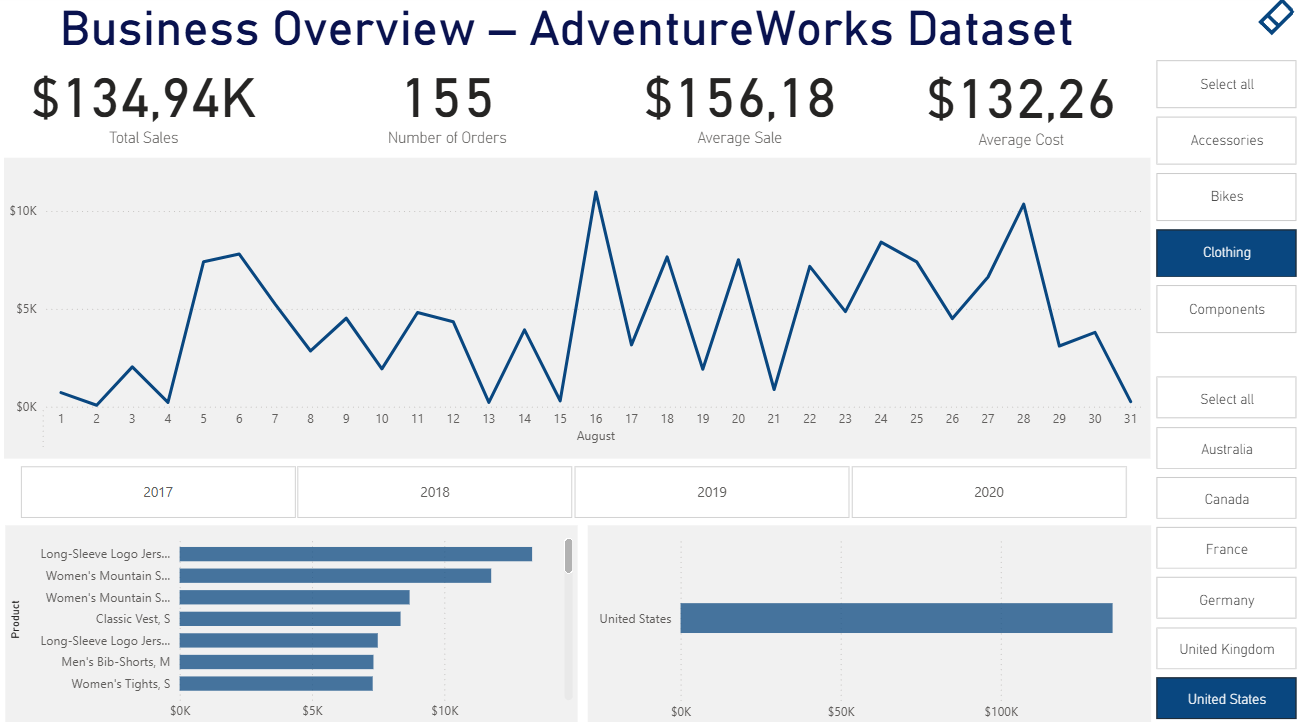

This screenshot's page, from the dashboard's own definition file:
{"tool":"powerbi","page":{"name":"Overview","canvas":[1280,720],"ordinal":0},"visuals":[{"type":"cardVisual","title":"SALES","fields":{"Data":["Sum(Sales.Sales)"]},"box":[6.1,50.1,281.3,119.8],"z":0},{"type":"cardVisual","fields":{"Data":["Count(Sales.SalesOrderNumber)"]},"box":[321.6,50.1,244.6,119.8],"z":1000},{"type":"cardVisual","fields":{"Data":["Avg(Sales.Sales)"]},"box":[602.9,50.1,254.3,119.8],"z":2000},{"type":"cardVisual","fields":{"Data":["Avg(Sales.Cost)"]},"box":[878,51.4,254.3,118.6],"z":3000},{"type":"lineChart","title":"Sum of Sales","fields":{"Category":["Sales.OrderDate.Variation.Date Hierarchy.Month","Sales.OrderDate.Variation.Date Hierarchy.Day"],"Y":["Sum(Sales.Sales)"]},"box":[9.8,160.2,1121.3,294.7],"z":4000},{"type":"advancedSlicerVisual","fields":{"Values":["Product.Category"]},"box":[1131.8,60.2,148.5,280.1],"z":5000},{"type":"advancedSlicerVisual","fields":{"Values":["Region.Country"]},"box":[1131.8,369.8,148.5,350.2],"z":6000},{"type":"slicer","fields":{"Values":["Sales.OrderDate.Variation.Date Hierarchy.Year"]},"box":[0,455.2,1131.8,64.4],"z":7000},{"type":"barChart","fields":{"Category":["Product.Product"],"Y":["Sum(Sales.Sales)"]},"box":[11.2,519.7,560.3,200.3],"z":8000},{"type":"barChart","fields":{"Category":["Region.Country"],"Y":["Sum(Sales.Sales)"]},"box":[580.8,519.7,551.5,200.5],"z":9000},{"type":"actionButton","box":[1232.7,0,47.6,44.8],"z":10000},{"type":"textbox","box":[0,0,1121.3,69.7],"z":11000}]}

Visuals, with their boxes in screenshot pixels (x1, y1, x2, y2), scaled from the page's 1280x720 canvas onto the 1297x722 screenshot:
"SALES" cardVisual: {"left": 6, "top": 50, "right": 291, "bottom": 170}
cardVisual - Count(Sales.SalesOrderNumber): {"left": 326, "top": 50, "right": 574, "bottom": 170}
cardVisual - Avg(Sales.Sales): {"left": 611, "top": 50, "right": 869, "bottom": 170}
cardVisual - Avg(Sales.Cost): {"left": 890, "top": 52, "right": 1147, "bottom": 170}
"Sum of Sales" lineChart: {"left": 10, "top": 161, "right": 1146, "bottom": 456}
advancedSlicerVisual - Product.Category: {"left": 1147, "top": 60, "right": 1296, "bottom": 341}
advancedSlicerVisual - Region.Country: {"left": 1147, "top": 371, "right": 1296, "bottom": 721}
slicer - Sales.OrderDate.Variation.Date Hierarchy.Year: {"left": 0, "top": 456, "right": 1147, "bottom": 521}
barChart - Product.Product x Sum(Sales.Sales): {"left": 11, "top": 521, "right": 579, "bottom": 721}
barChart - Region.Country x Sum(Sales.Sales): {"left": 589, "top": 521, "right": 1147, "bottom": 721}
actionButton: {"left": 1249, "top": 0, "right": 1296, "bottom": 45}
textbox: {"left": 0, "top": 0, "right": 1136, "bottom": 70}
